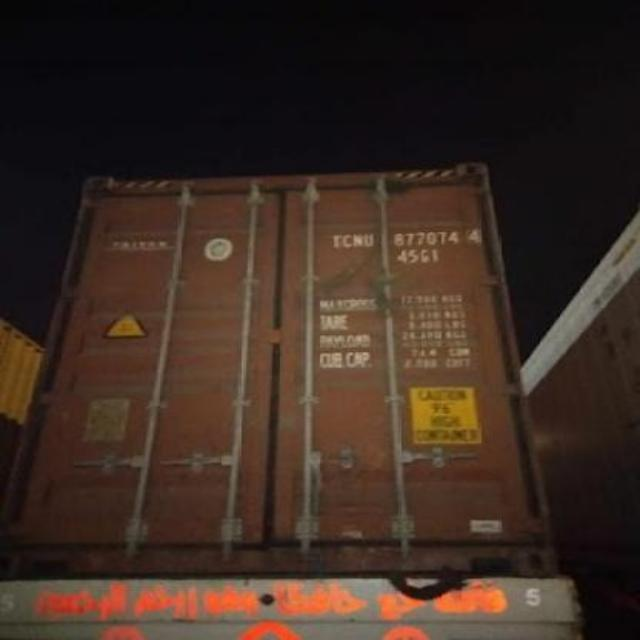0: (426, 227, 436, 245)
4: (448, 223, 460, 247), (468, 227, 480, 245)
7: (432, 224, 446, 246), (412, 229, 426, 247), (404, 229, 414, 247)
8: (392, 230, 404, 250)
C: (340, 231, 352, 251)
N: (351, 223, 364, 253)
T: (328, 230, 340, 250)
U: (364, 229, 374, 249)
